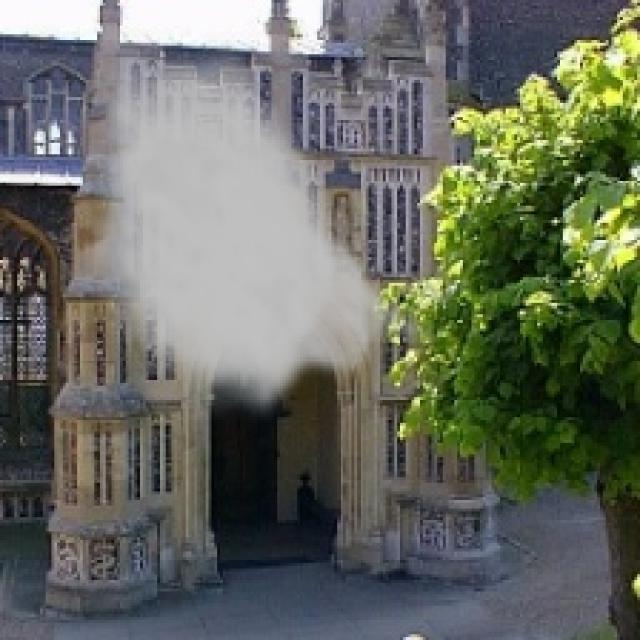smoke: (83, 31, 446, 426)
